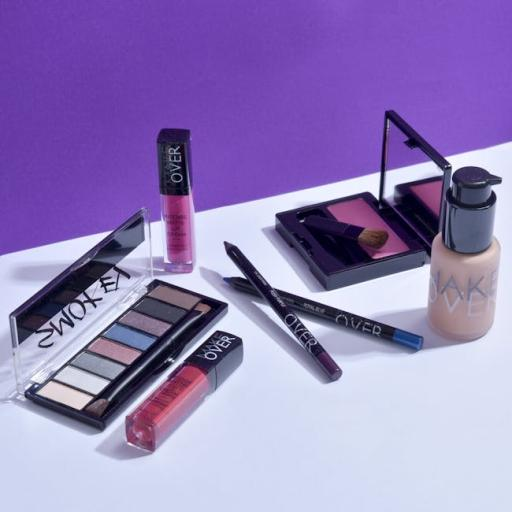lipstick: (126, 331, 243, 451), (157, 129, 194, 272)
